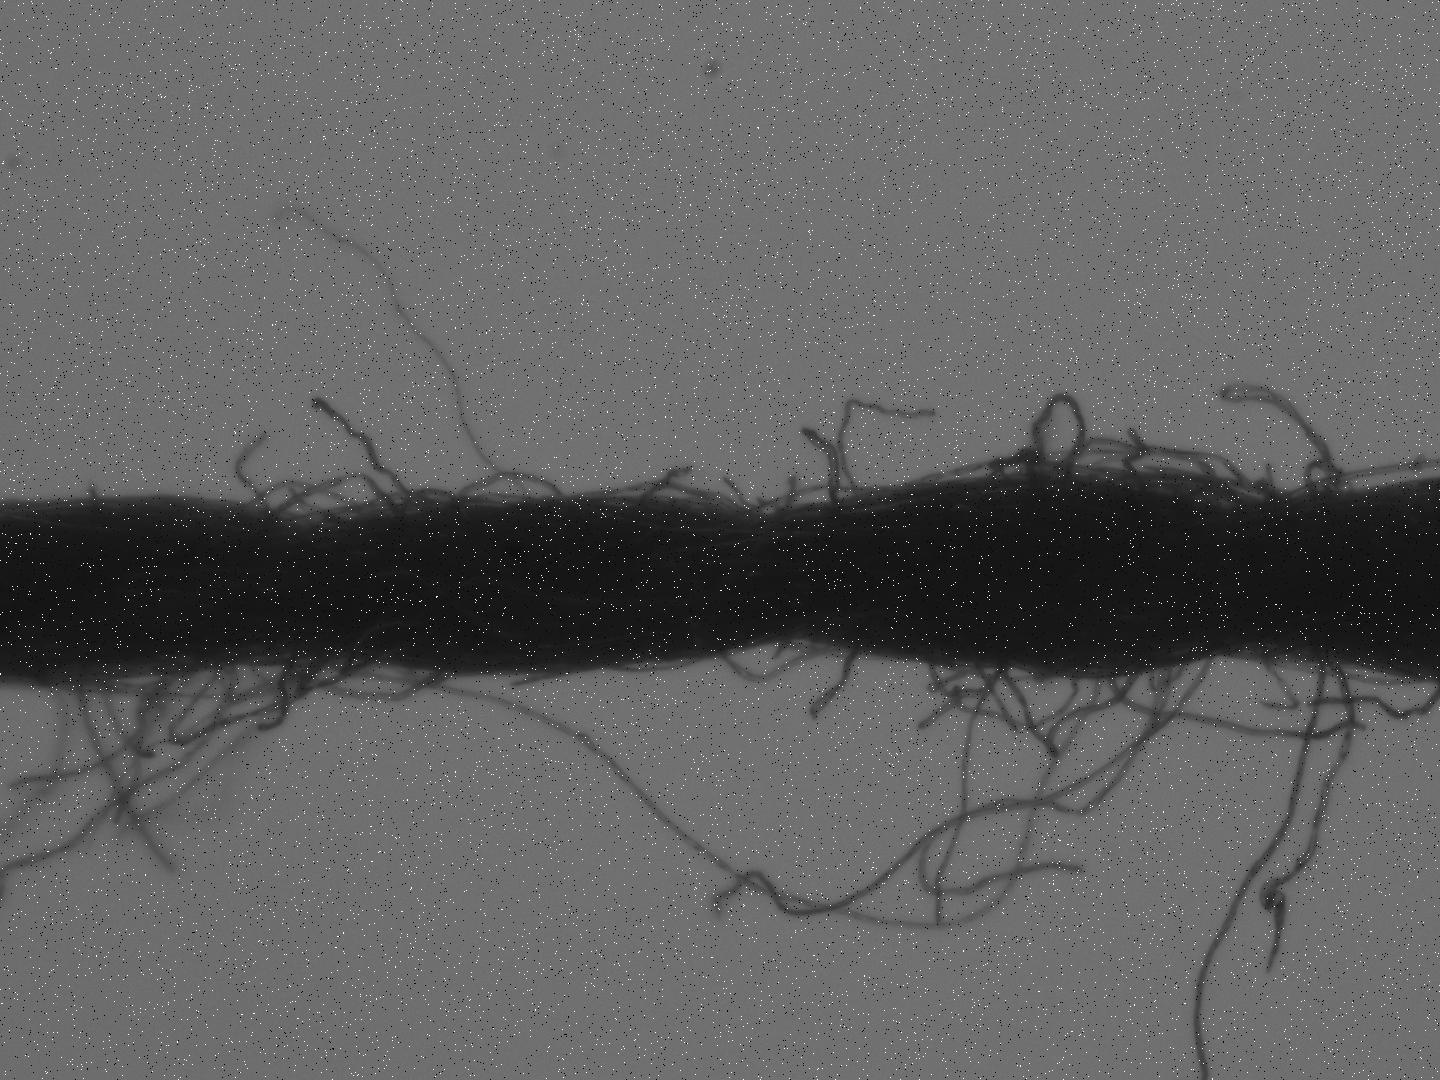loop_fiber: (842, 385, 1298, 515), (95, 638, 472, 762), (910, 642, 1154, 767), (1215, 378, 1359, 505), (231, 467, 408, 528), (701, 625, 863, 689), (594, 465, 757, 521), (450, 464, 571, 512)
protruding_fiber: (1189, 652, 1331, 1080), (304, 391, 433, 506)
